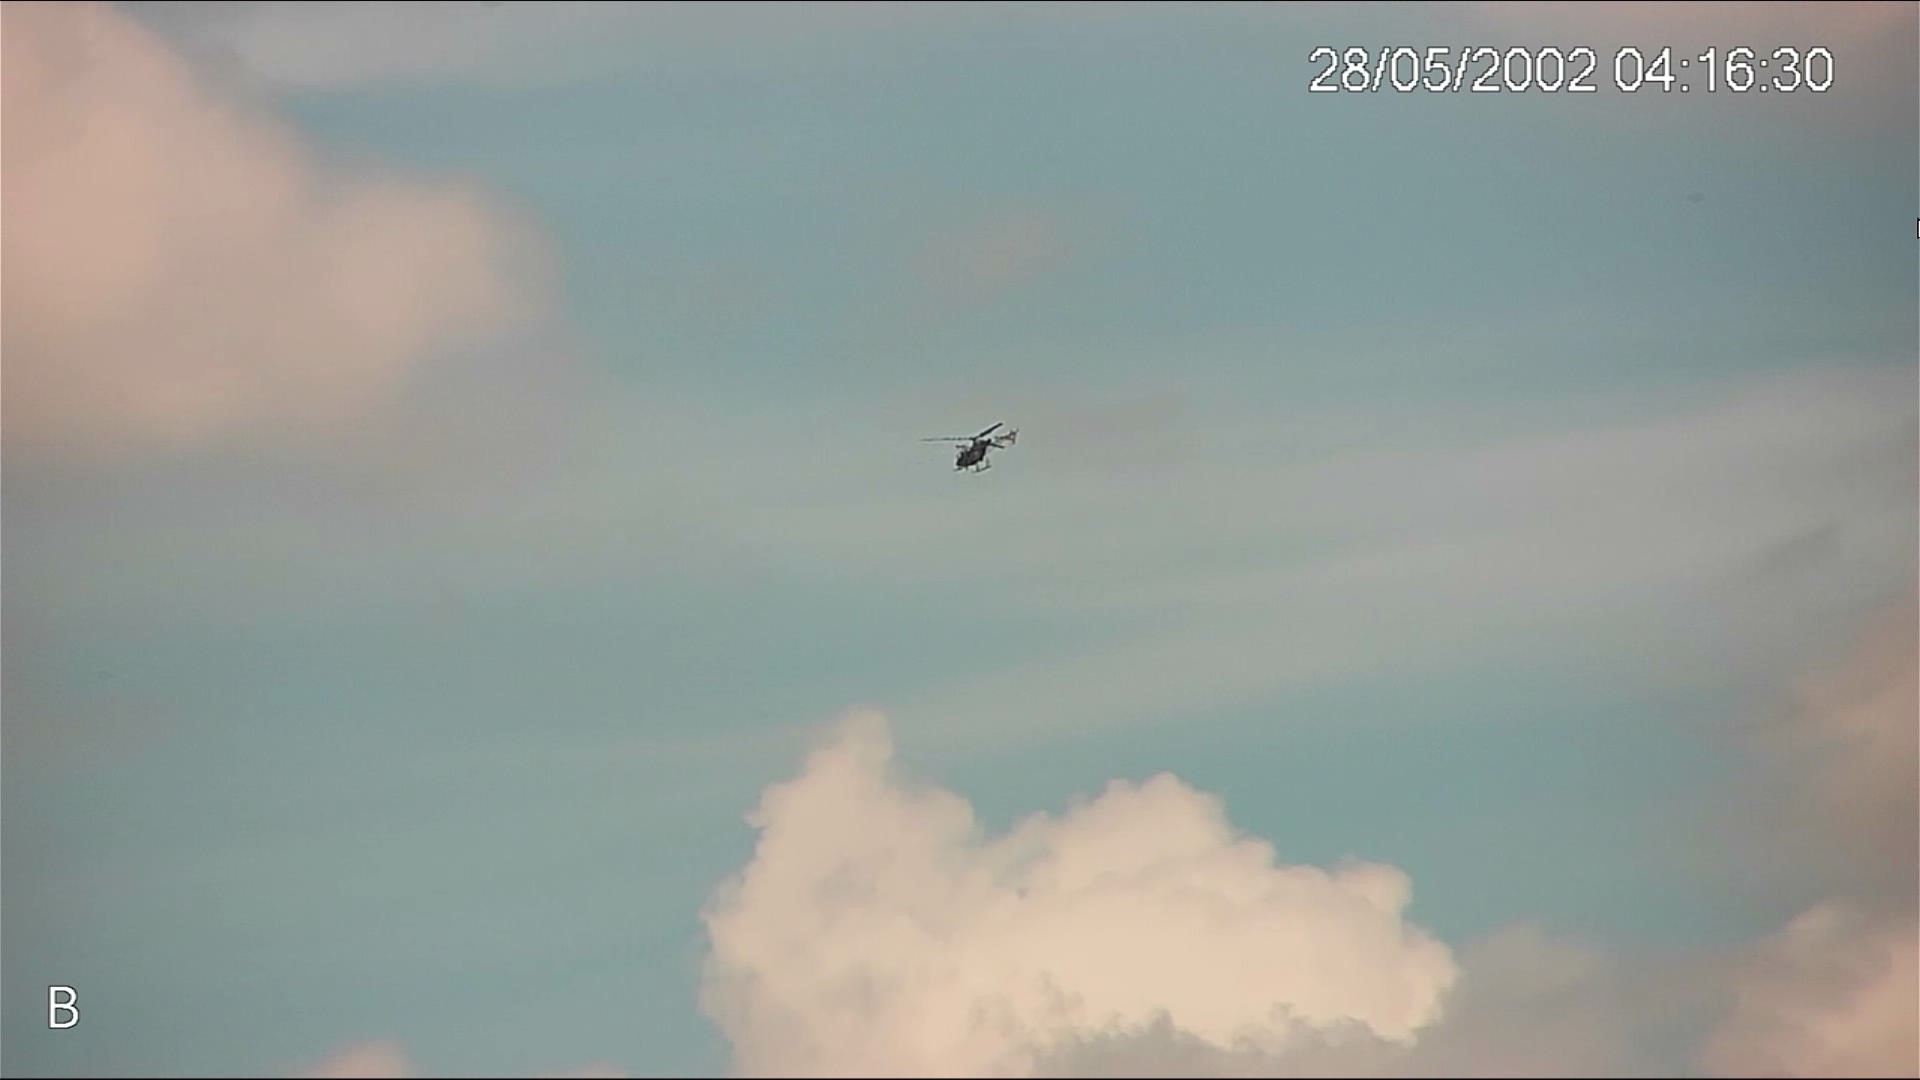SU_30: (948, 429, 1015, 473)
